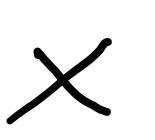mult: (7, 38, 111, 124)
